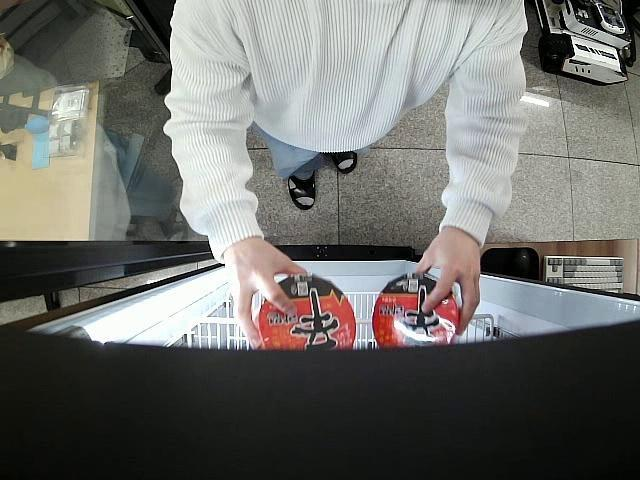01_ShinRamen_L: (250, 272, 357, 352), (373, 274, 462, 351)
